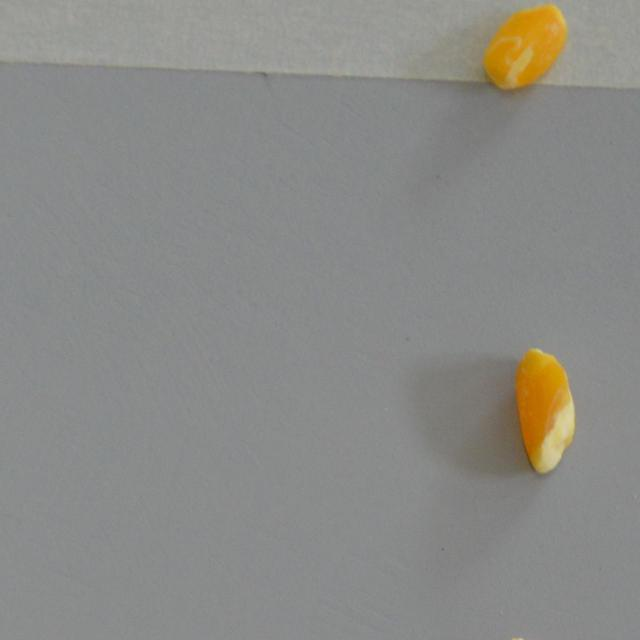agrietado: (512, 346, 576, 474)
pelicula: (482, 4, 570, 91)
